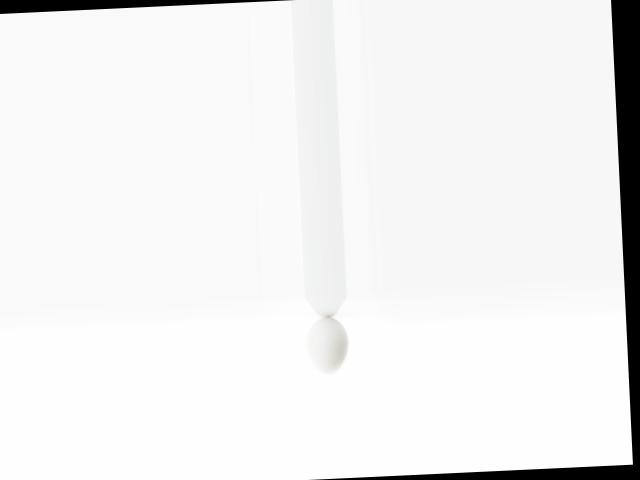egg: (306, 315, 349, 374)
